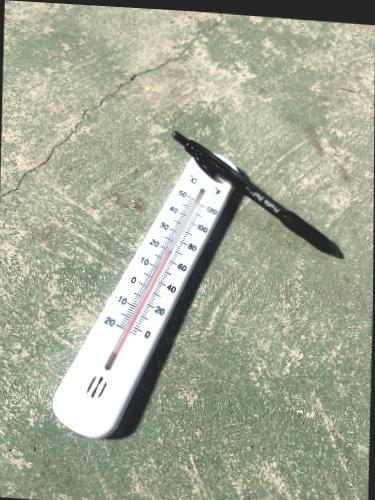thermo: (49, 141, 244, 435)
